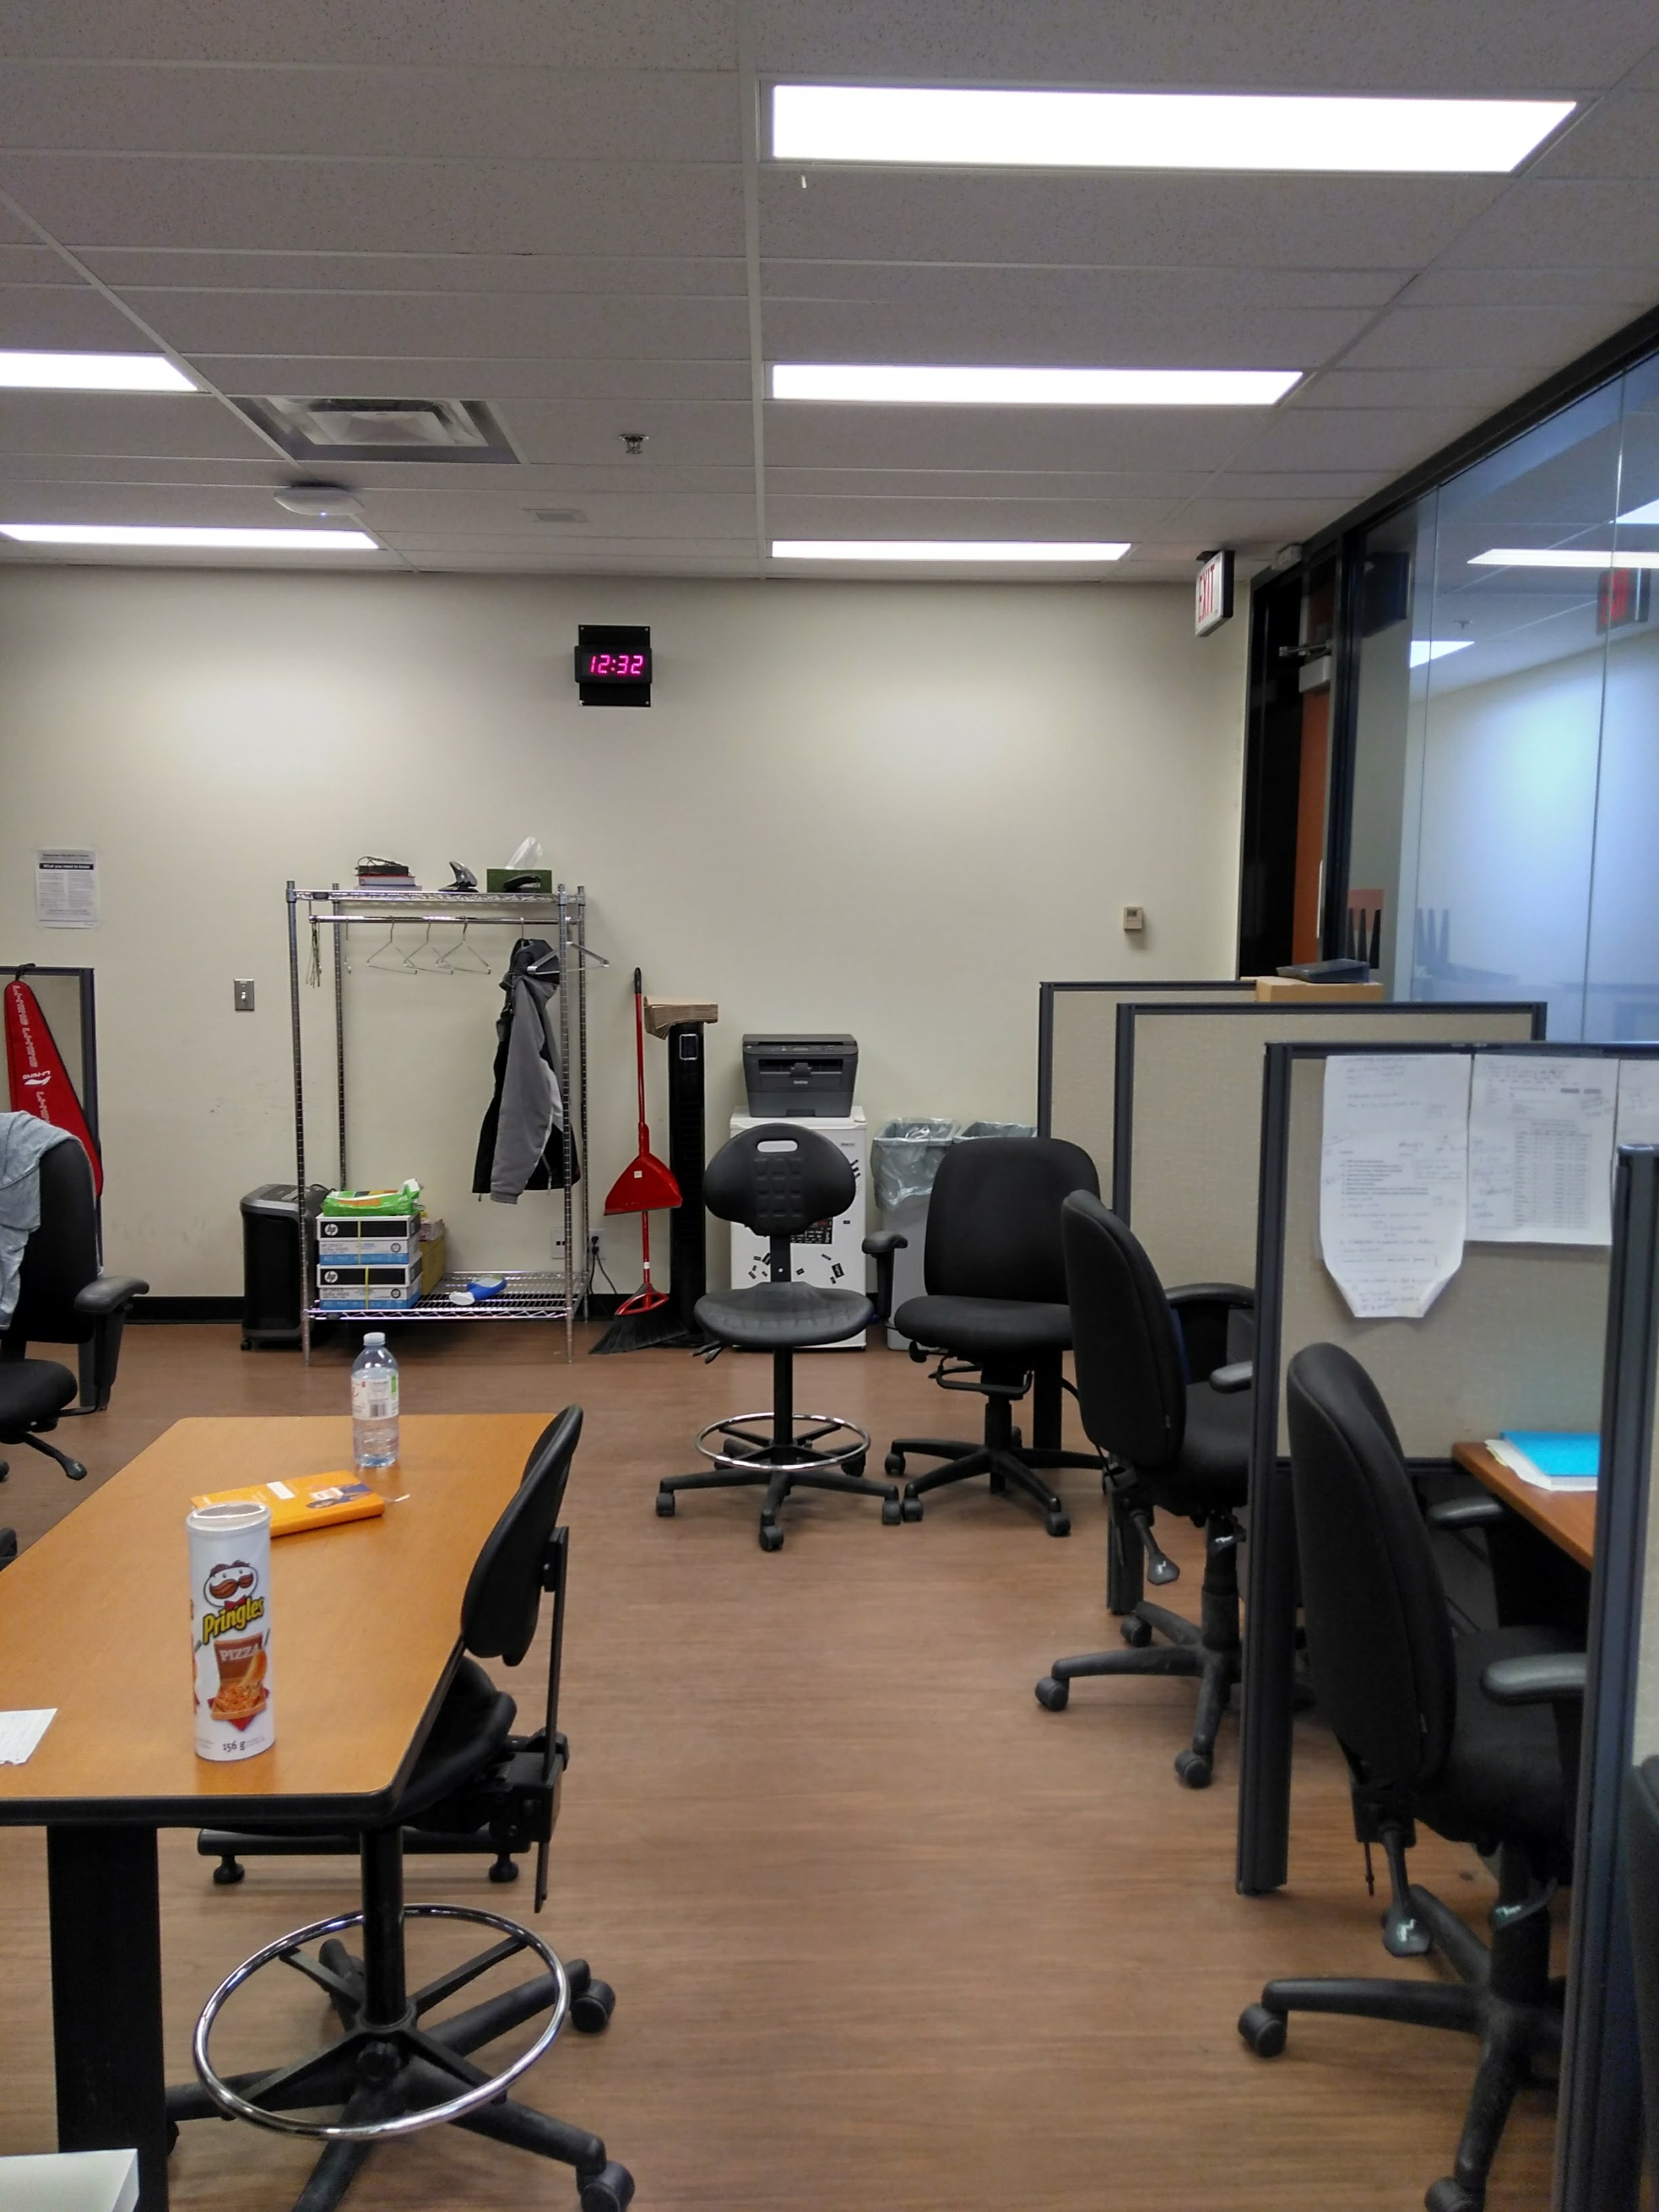pringles: (171, 1486, 293, 1773)
